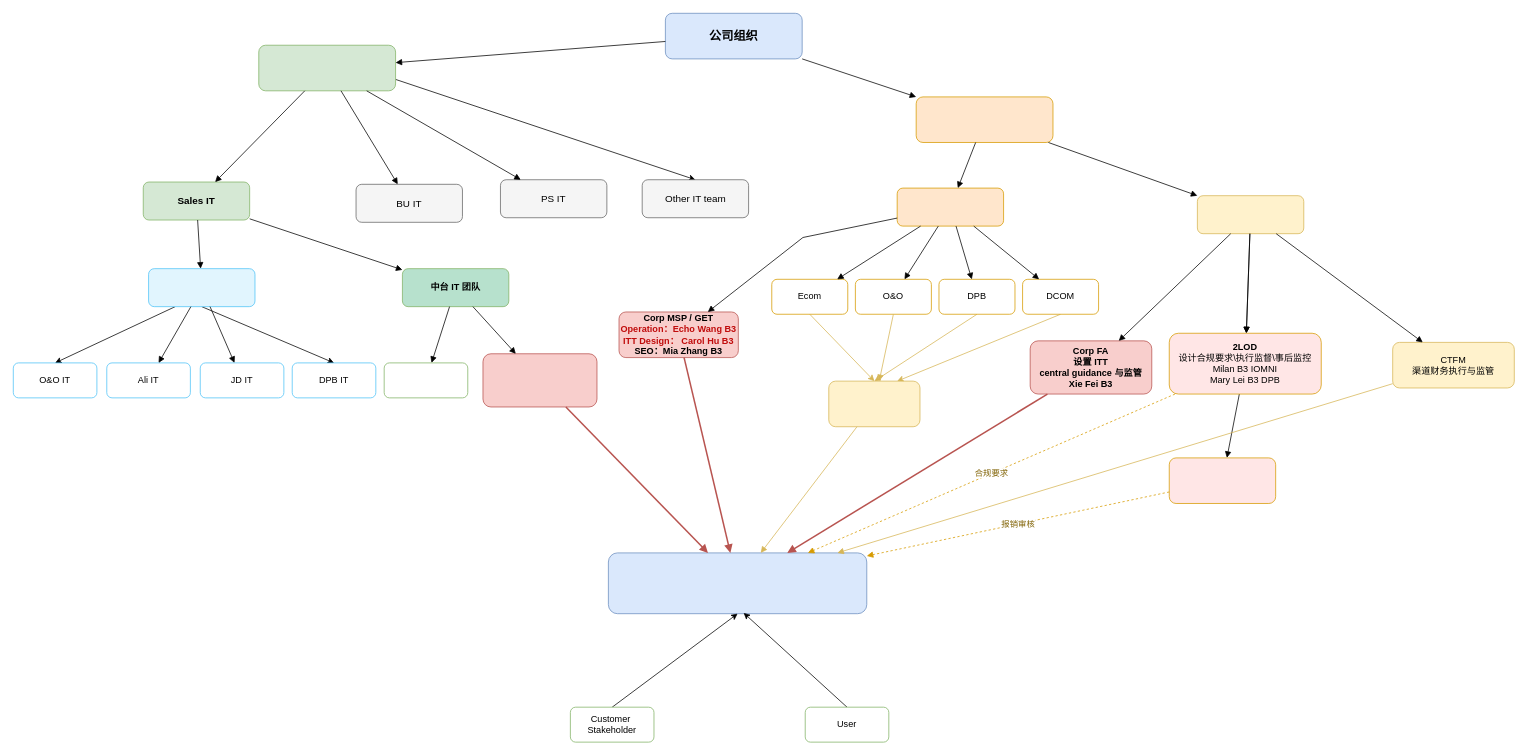
This 1528x755 diagram has some shape labels left out. The shapes that lost their labels are listed below. From the top down, each one's centre as x and y in pixels, then its label:
the point at 327,67: IT 组织
the point at 984,119: 业务组织
the point at 950,206: Sales 体系
the point at 1250,214: FA 体系
the point at 201,287: 前台 IT 团队
the point at 425,380: SEO IT
the point at 539,380: Trade Fund IT
the point at 874,403: AE 核心用户群体
the point at 1222,480: IAG 报销材料审核
the point at 737,583: Trade Fund 领域协作核心 连接业务规则、财务规划、系统实现、执行落地与控制要求
